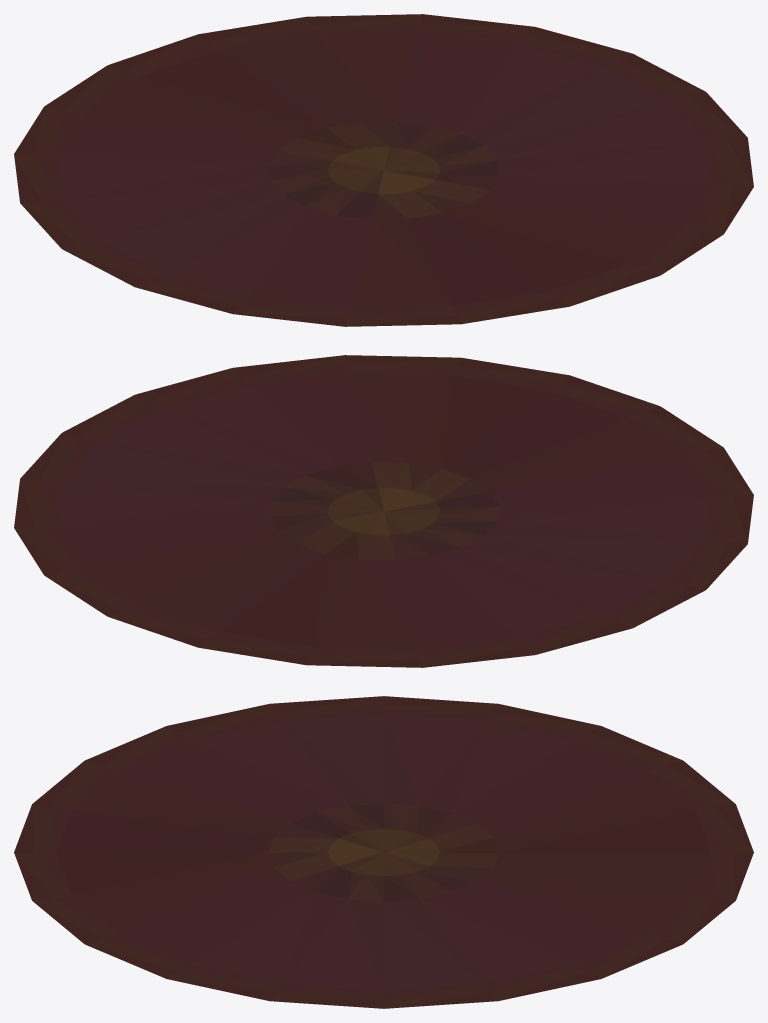
File: prop_decor_rug_circle_1.fbx
3 renders of one model, top to bottom at view 1: azimuth 30°, elevation 25°; view 2: azimuth 150°, elevation 25°; view 3: azimuth 270°, elevation 25°, orthographic.
Visible parts, largest first — view 1: prop_decor_rug_circle_1; view 2: prop_decor_rug_circle_1; view 3: prop_decor_rug_circle_1.
Boxes of the visible parts, box(x1,y1,x2,y2) form: prop_decor_rug_circle_1: box(14, 14, 753, 326); prop_decor_rug_circle_1: box(14, 355, 753, 667); prop_decor_rug_circle_1: box(14, 696, 753, 1008).
Size of the model in its own units: 3.19 by 0 by 3.19.
